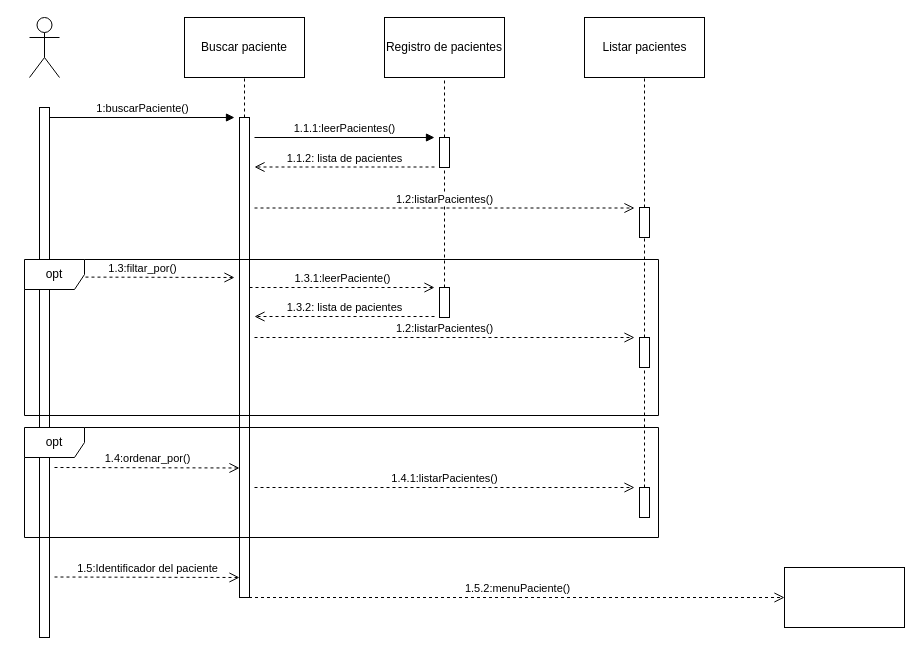
Image size: 922x655. Some labels were removed from this diagram. The box of each missing label's shape, as (x1, y1, x2, y2) in pixels:
Gestionar paciente: (784, 566, 904, 628)
Secretario: (28, 16, 60, 78)
